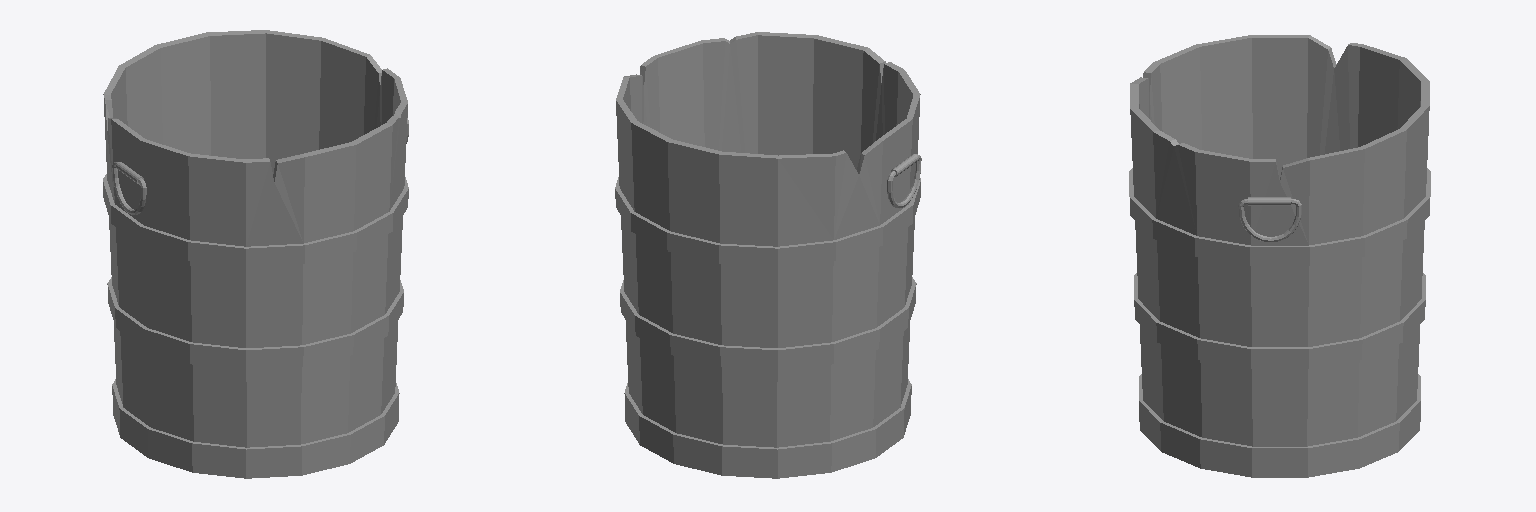
File: Bucket.obj
3 renders of one model, left to right at view 1: azimuth 30°, elevation 25°; view 2: azimuth 150°, elevation 25°; view 3: azimuth 270°, elevation 25°, orthographic.
Visible parts, largest first — view 1: Bucket; view 2: Bucket; view 3: Bucket.
Part boxes in pixels (x1,y1,x2,y2): Bucket: (103, 30, 408, 478); Bucket: (615, 32, 921, 478); Bucket: (1129, 35, 1430, 477).
Size of the model in its own units: 0.5034 by 0.5794 by 0.4864.